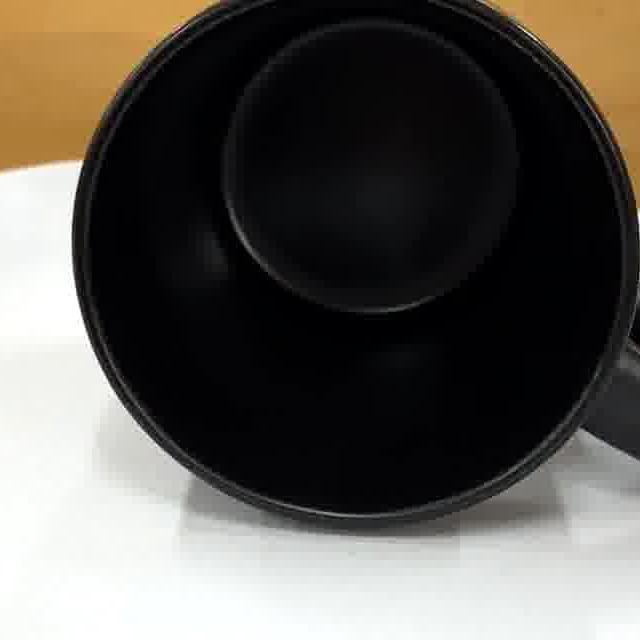cup: (73, 0, 640, 531)
